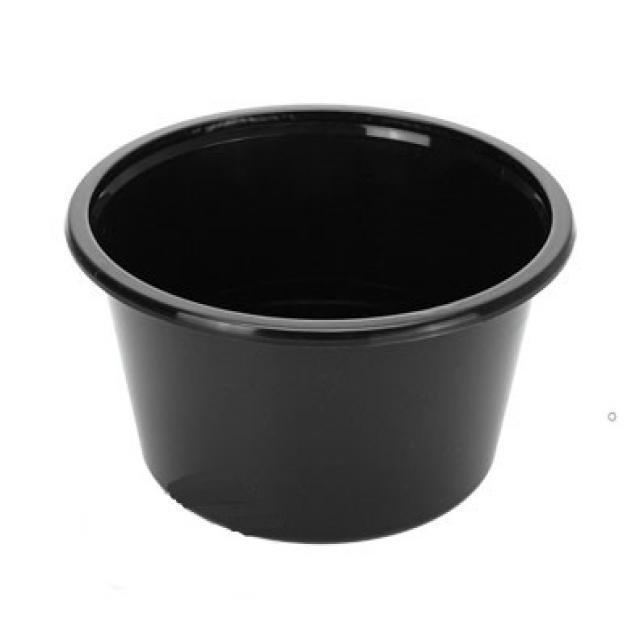Plastic: (70, 99, 576, 546)
